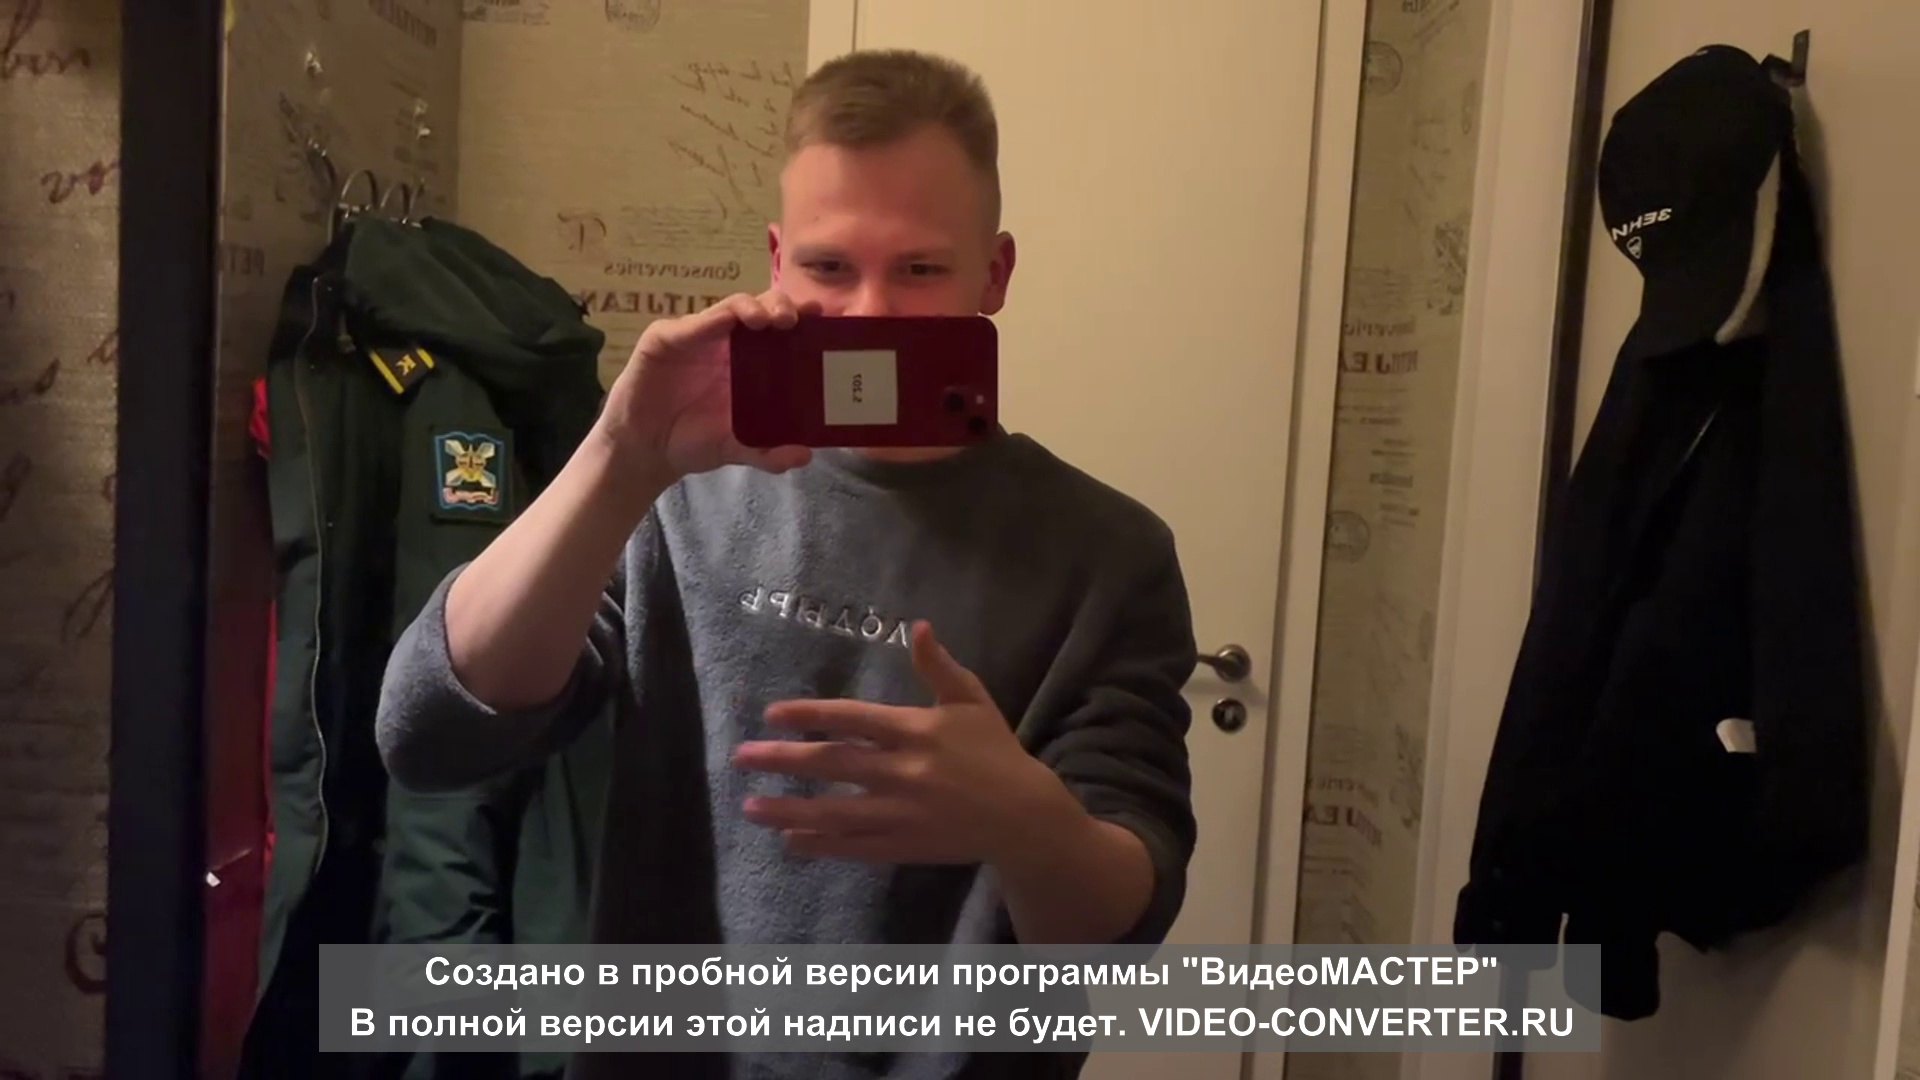Кисть: (740, 616, 1022, 868)
